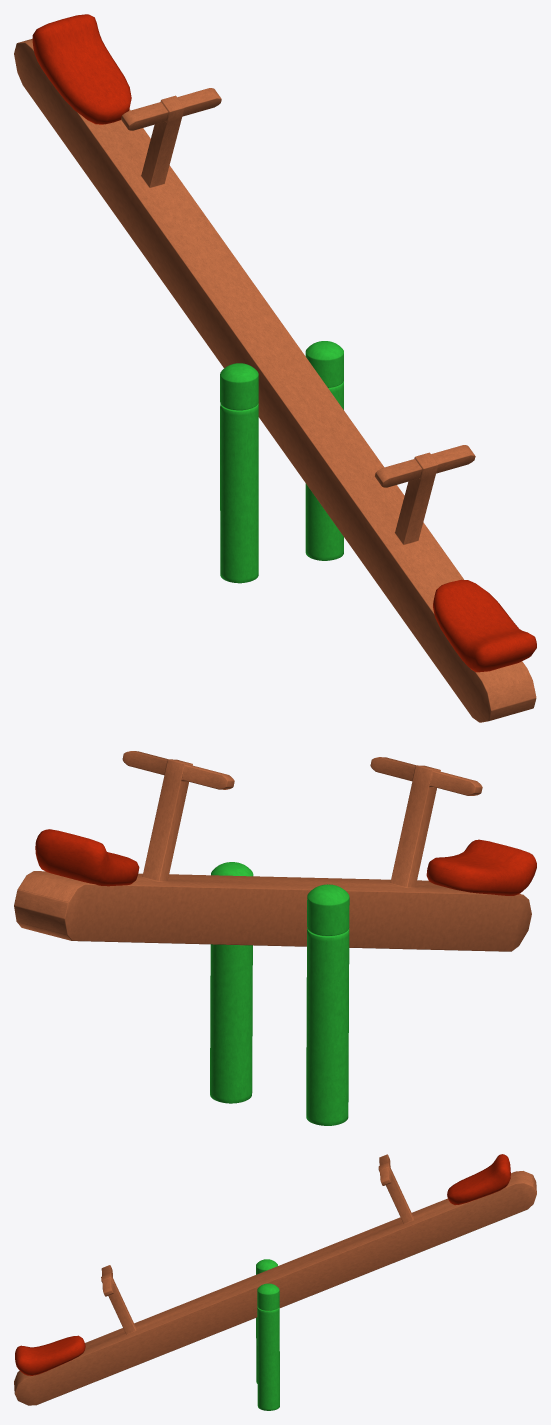
File: whip.glb
The picture shows the model from 3 angles, top to bottom: view 1: azimuth 30°, elevation 25°; view 2: azimuth 150°, elevation 25°; view 3: azimuth 270°, elevation 25°; orthographic projection. The views are drawn at different scales.
Parts seen in each view (by area): view 1: whip; view 2: whip; view 3: whip.
Part boxes in pixels (x1=…): whip: x1=14, y1=14, x2=536, y2=722; whip: x1=14, y1=751, x2=536, y2=1125; whip: x1=14, y1=1154, x2=536, y2=1410.
Size of the model in its own units: 0.4556 by 1.46 by 2.96.
Materials: 1 (1 with a texture image).
